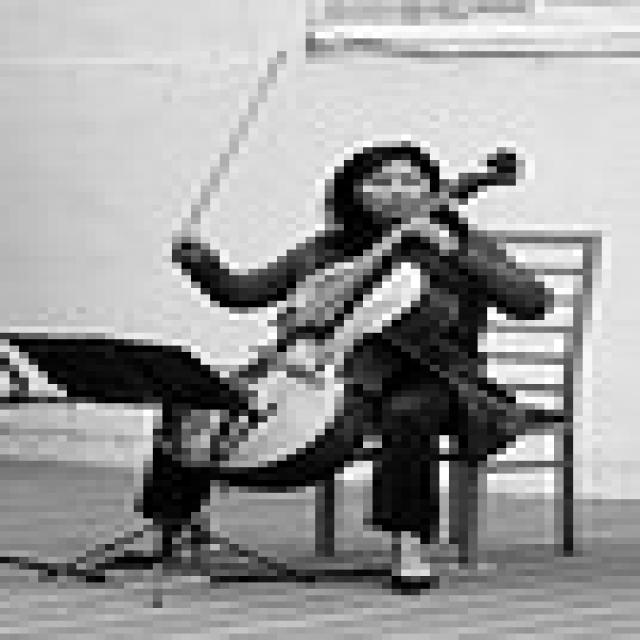cello: (161, 145, 531, 486)
